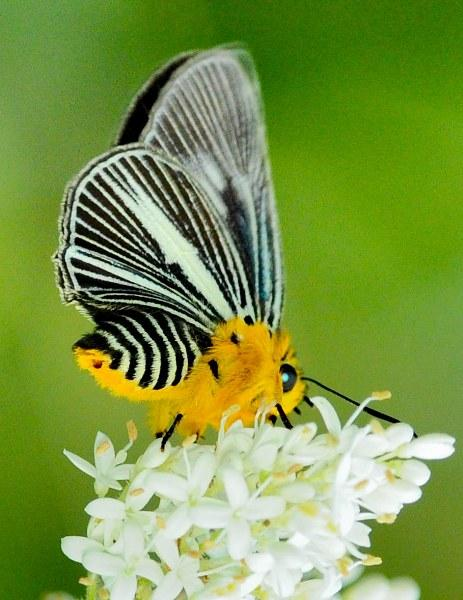Hesperiidae: (58, 37, 406, 432)
